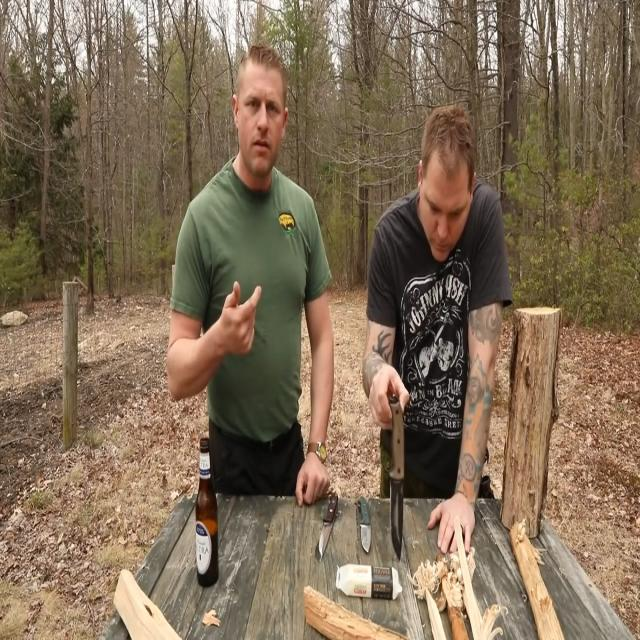knife: (389, 397, 407, 568), (316, 490, 341, 566), (355, 491, 374, 555)
